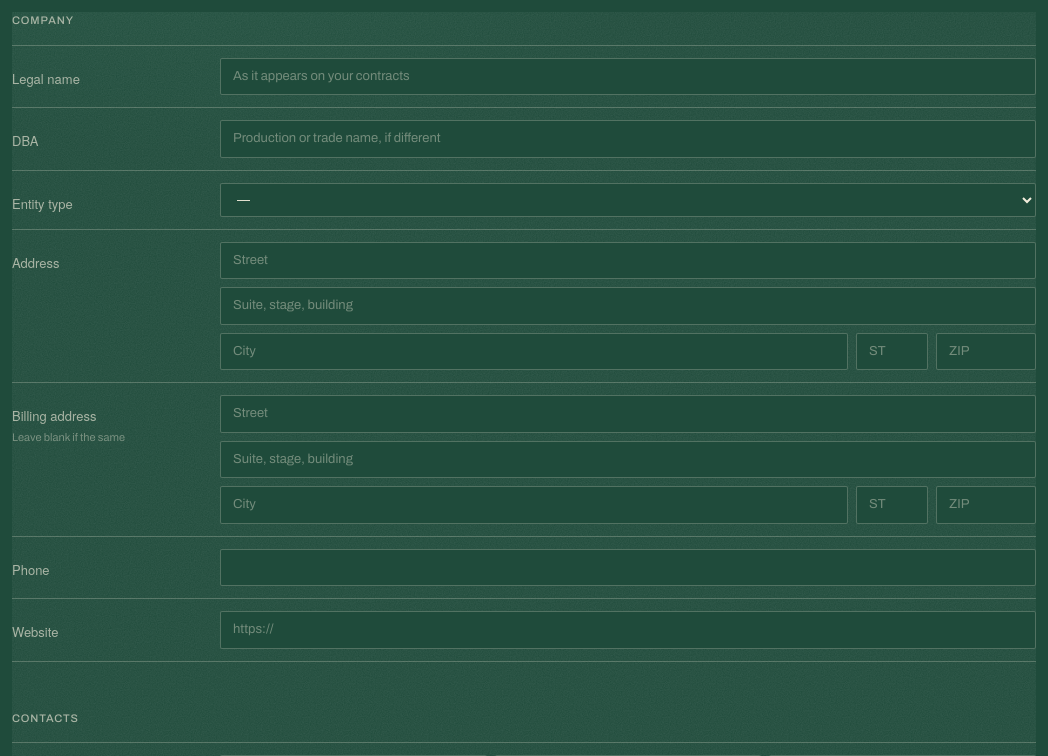
Test: editing fields › caps the state field at two characters
The image size is (1048, 756).
Type "CAL" into the 1st field with placeholder "ST". click: (892, 351)
box: [856,332,928,370]
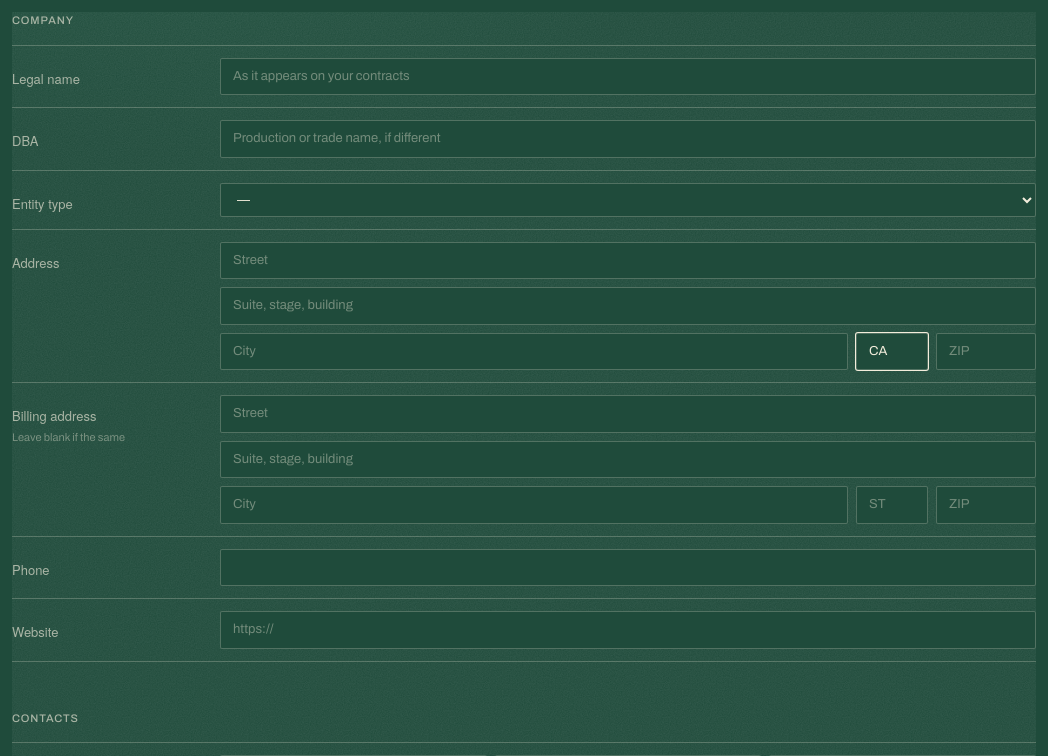
Expected: the 1st field with placeholder "ST" holds "CA", [856,332,928,370]
